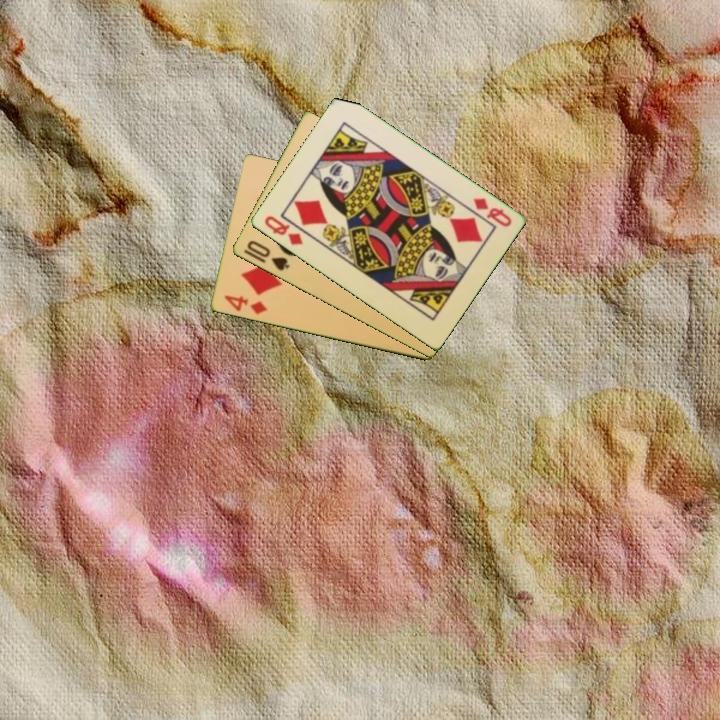10s: (243, 237, 292, 274)
4d: (220, 292, 269, 317)
Qd: (260, 212, 306, 248), (469, 194, 514, 230)
